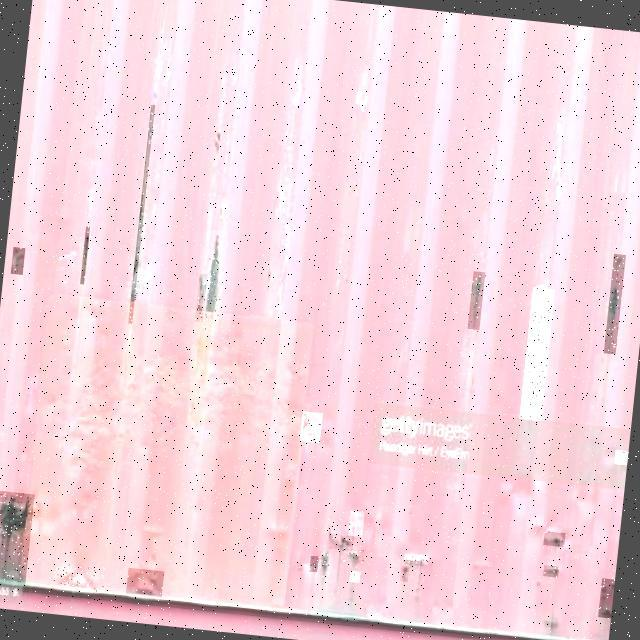Minor-Dent: (53, 563, 105, 593), (126, 567, 164, 597), (11, 247, 28, 275)
Rust: (128, 105, 157, 324), (519, 287, 555, 421), (0, 488, 34, 584), (201, 230, 228, 335), (604, 253, 626, 354), (468, 272, 488, 333), (300, 411, 323, 443), (598, 578, 615, 618), (194, 273, 207, 322), (80, 226, 90, 284), (348, 511, 365, 537), (329, 534, 354, 551), (341, 548, 364, 564), (543, 531, 565, 547), (317, 551, 330, 578), (403, 554, 428, 565), (614, 450, 628, 465), (543, 565, 559, 578), (399, 565, 409, 582), (309, 555, 319, 572), (349, 571, 360, 583), (220, 203, 228, 219)
